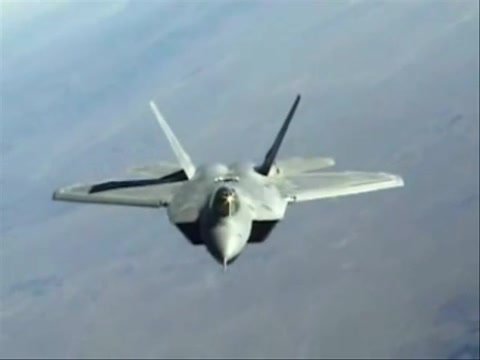aeroplane: (54, 92, 409, 270)
